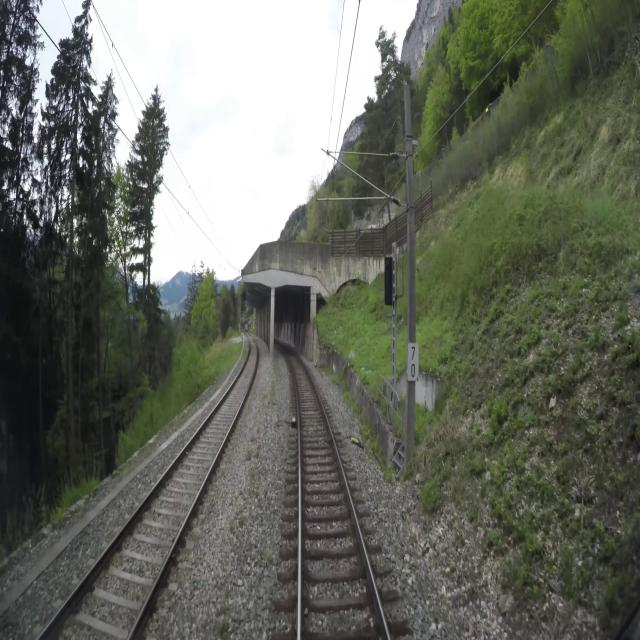rail-track: (42, 337, 256, 639), (285, 348, 386, 639)
